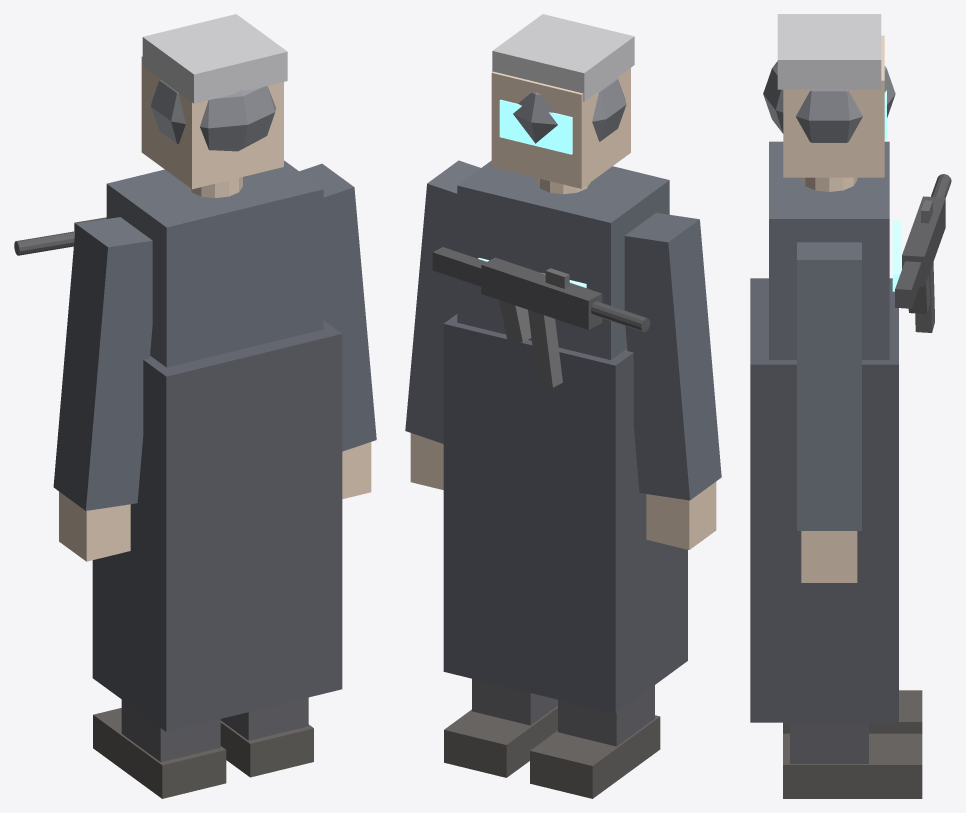
File: guard_warden.glb
The picture shows the model from 3 angles, left to right: view 1: azimuth 30°, elevation 25°; view 2: azimuth 150°, elevation 25°; view 3: azimuth 270°, elevation 25°; orthographic projection. The views are drawn at different scales.
Parts seen in each view (by area): view 1: guard_warden_coat, guard_warden_torso, guard_warden_arm_L, guard_warden_arm_R, guard_warden_hair, guard_warden_head, guard_warden_shoe_L, guard_warden_helmet, guard_warden_hand_L, guard_warden_shoe_R, guard_warden_leg_L, guard_warden_leg_R (+3 smaller); view 2: guard_warden_coat, guard_warden_torso, guard_warden_arm_L, guard_warden_arm_R, guard_warden_head, guard_warden_hair, guard_warden_shoe_L, guard_warden_shoe_R, warden_smg_body, guard_warden_hand_L, guard_warden_leg_L, guard_warden_helmet (+7 smaller); view 3: guard_warden_coat, guard_warden_arm_R, guard_warden_torso, guard_warden_hair, guard_warden_shoe_R, guard_warden_head, guard_warden_helmet, guard_warden_leg_R, guard_warden_hand_R, warden_smg_body, guard_warden_shoe_L, warden_smg_stock (+4 smaller).
Part boxes in pixels (x1=…): guard_warden_coat: x1=92, y1=320, x2=342, y2=731; guard_warden_torso: x1=106, y1=160, x2=323, y2=367; guard_warden_arm_L: x1=53, y1=217, x2=152, y2=510; guard_warden_arm_R: x1=299, y1=163, x2=376, y2=451; guard_warden_hair: x1=142, y1=14, x2=287, y2=103; guard_warden_head: x1=141, y1=56, x2=283, y2=189; guard_warden_shoe_L: x1=93, y1=708, x2=226, y2=798; guard_warden_helmet: x1=151, y1=79, x2=275, y2=151; guard_warden_hand_L: x1=59, y1=491, x2=130, y2=561; guard_warden_shoe_R: x1=220, y1=720, x2=313, y2=777; guard_warden_leg_L: x1=121, y1=700, x2=220, y2=762; guard_warden_leg_R: x1=220, y1=697, x2=308, y2=740; guard_warden_coat: x1=443, y1=314, x2=687, y2=713; guard_warden_torso: x1=457, y1=160, x2=669, y2=359; guard_warden_arm_L: x1=624, y1=212, x2=721, y2=500; guard_warden_arm_R: x1=405, y1=160, x2=480, y2=443; guard_warden_head: x1=491, y1=68, x2=630, y2=188; guard_warden_hair: x1=492, y1=14, x2=634, y2=101; guard_warden_shoe_L: x1=530, y1=715, x2=660, y2=798; guard_warden_shoe_R: x1=444, y1=706, x2=557, y2=777; warden_smg_body: x1=481, y1=257, x2=602, y2=329; guard_warden_hand_L: x1=646, y1=481, x2=716, y2=549; guard_warden_leg_L: x1=558, y1=685, x2=654, y2=746; guard_warden_helmet: x1=513, y1=78, x2=626, y2=143; guard_warden_coat: x1=750, y1=278, x2=898, y2=722; guard_warden_arm_R: x1=797, y1=242, x2=861, y2=530; guard_warden_torso: x1=769, y1=141, x2=889, y2=359; guard_warden_hair: x1=777, y1=14, x2=881, y2=89; guard_warden_shoe_R: x1=783, y1=733, x2=922, y2=798; guard_warden_head: x1=783, y1=35, x2=884, y2=177; guard_warden_helmet: x1=763, y1=61, x2=895, y2=142; guard_warden_leg_R: x1=790, y1=722, x2=868, y2=763; guard_warden_hand_R: x1=801, y1=531, x2=857, y2=582; warden_smg_body: x1=902, y1=196, x2=945, y2=286; guard_warden_shoe_L: x1=783, y1=690, x2=922, y2=733; warden_smg_stock: x1=895, y1=261, x2=921, y2=308.
Size of the model in its own units: 0.8154 by 1.93 by 0.485.
